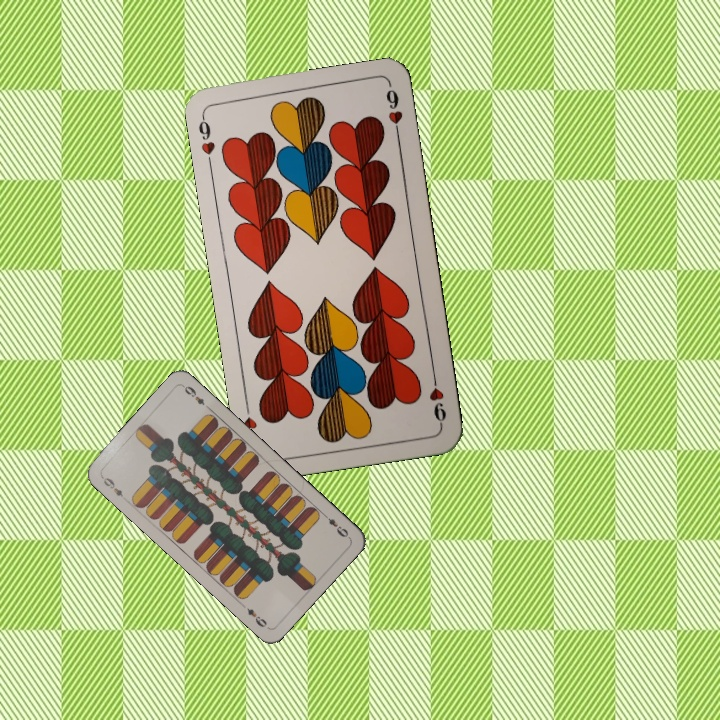E9: (97, 472, 130, 504), (319, 509, 351, 540)
H9: (425, 369, 449, 428), (194, 110, 218, 169)
